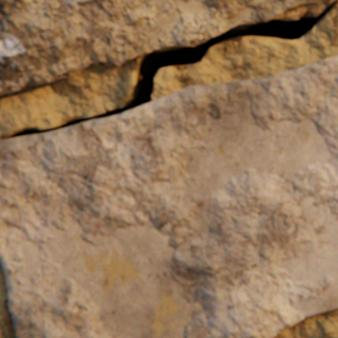brick: (0, 55, 337, 337), (0, 0, 334, 96)
crack: (1, 0, 336, 139)
